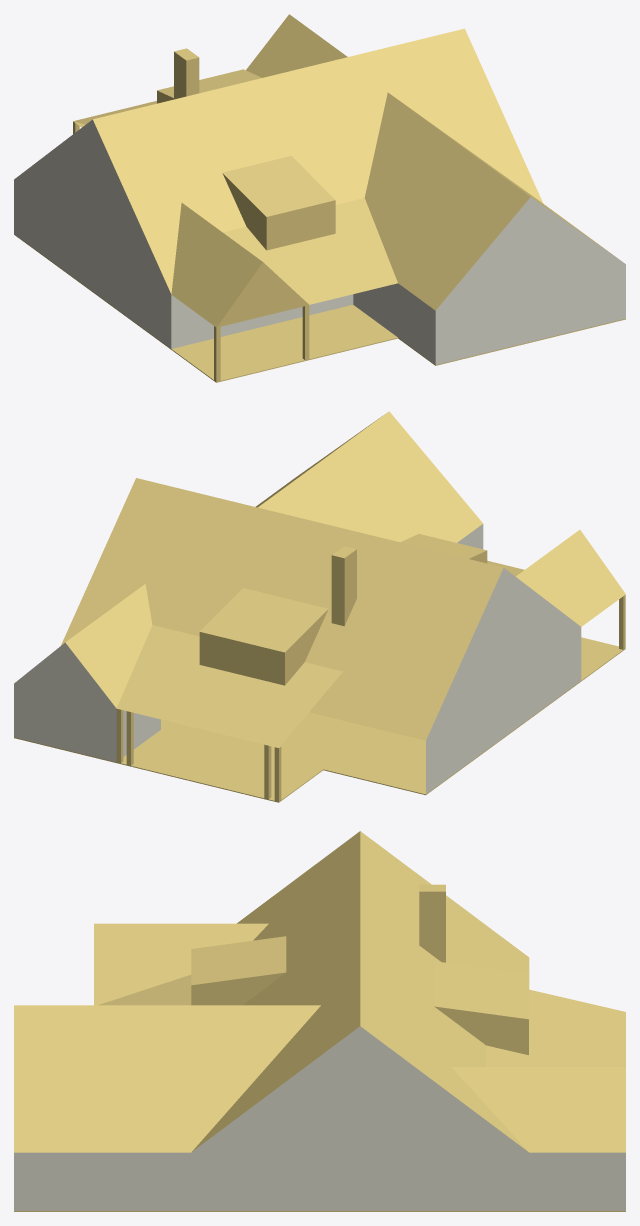
File: model-as-exported-metres.glb
3 renders of one model, top to bottom at view 1: azimuth 30°, elevation 25°; view 2: azimuth 150°, elevation 25°; view 3: azimuth 270°, elevation 25°, orthographic. The views are drawn at different scales.
Parts seen in each view (by area): view 1: object 31, object 28, Front, Left, object 12, object 27, object 8, object 23, object 7, object 21, object 2, object 4; view 2: object 1, Left, object 12, object 28, object 3, object 4, Back, object 27, object 23, object 2, object 31, object 11; view 3: right, object 19, object 31, object 1, object 24, object 29, object 3, object 4, object 2, object 12.
Boxes of the visible parts, x1,y1,x2,y2 form: object 31: (93,28,543,304); object 28: (364,92,530,310); Front: (435,197,625,364); Left: (14,119,171,348); object 12: (14,234,625,382); object 27: (171,203,262,327); object 8: (353,283,435,364); object 23: (246,14,347,77); object 7: (171,294,353,348); object 21: (217,262,308,327); object 2: (174,48,199,99); object 4: (157,69,261,103); object 1: (61,478,503,740); Left: (426,568,581,793); object 12: (14,637,625,802); object 28: (258,411,482,542); object 3: (116,625,342,747); object 4: (199,588,328,685); Back: (14,642,116,762); object 27: (515,530,625,626); object 23: (65,584,152,708); object 2: (331,546,356,626); object 31: (401,534,524,576); object 11: (123,710,160,756); right: (14,1026,625,1210); object 19: (14,1005,320,1152); object 31: (98,831,360,1151); object 1: (360,831,529,1151); object 24: (451,1067,625,1152); object 29: (94,923,268,1005); object 3: (486,989,625,1066); object 4: (434,961,528,1055); object 2: (419,884,445,962); object 12: (14,1211,625,1211).
Bounding box in the file's own units: 43.01 × 20.1 × 57.
